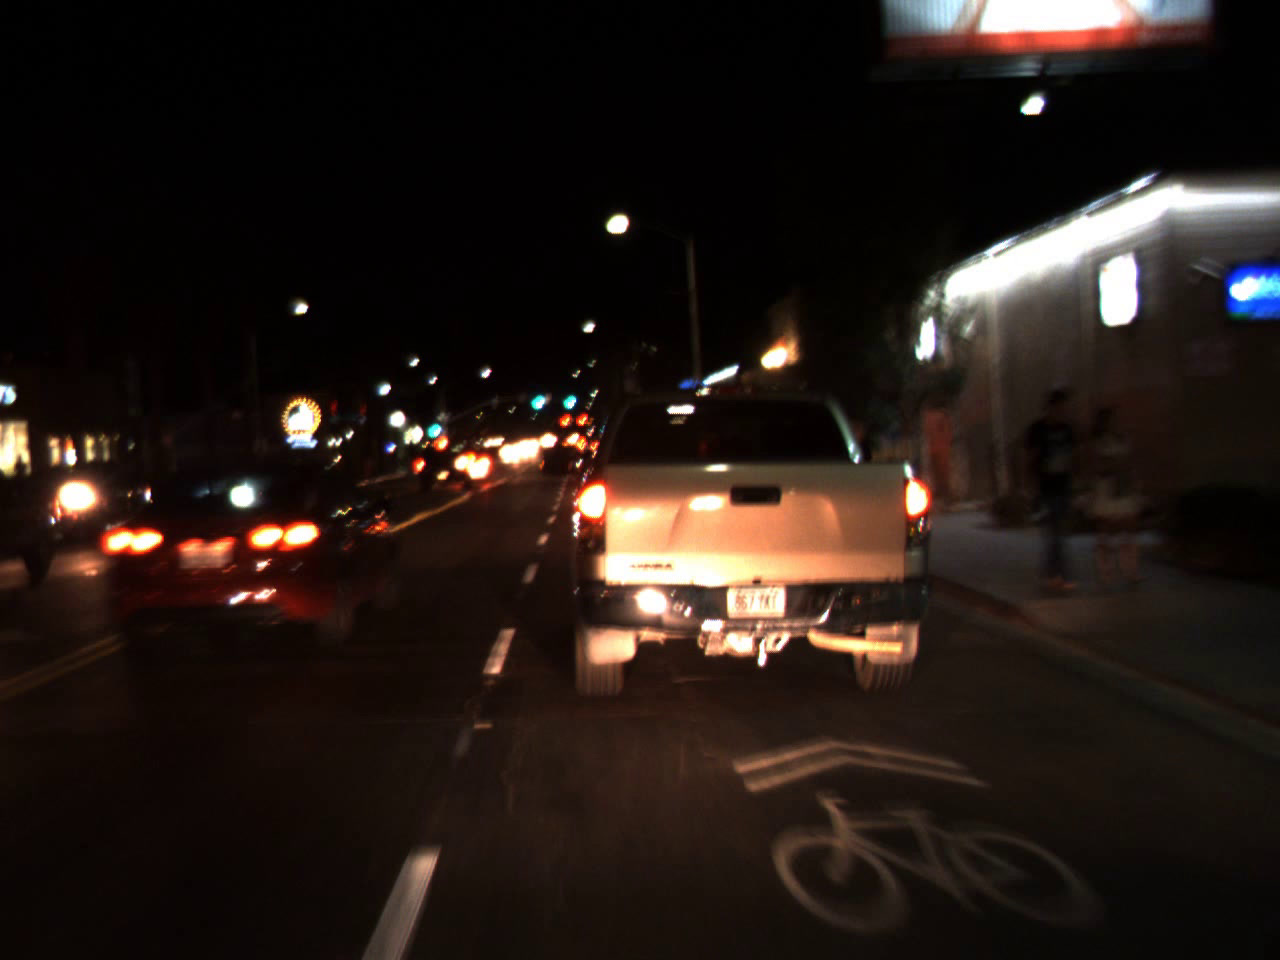go: (423, 404, 442, 443), (527, 376, 545, 415), (559, 378, 577, 414)
